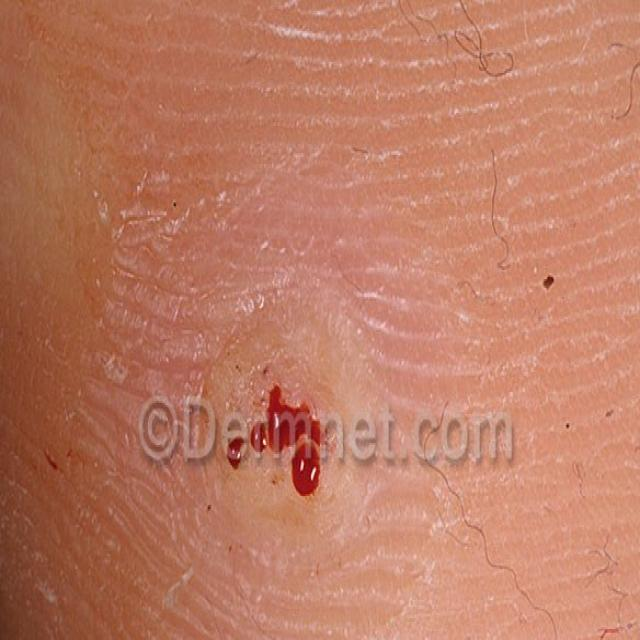Warts: (220, 353, 341, 527)
